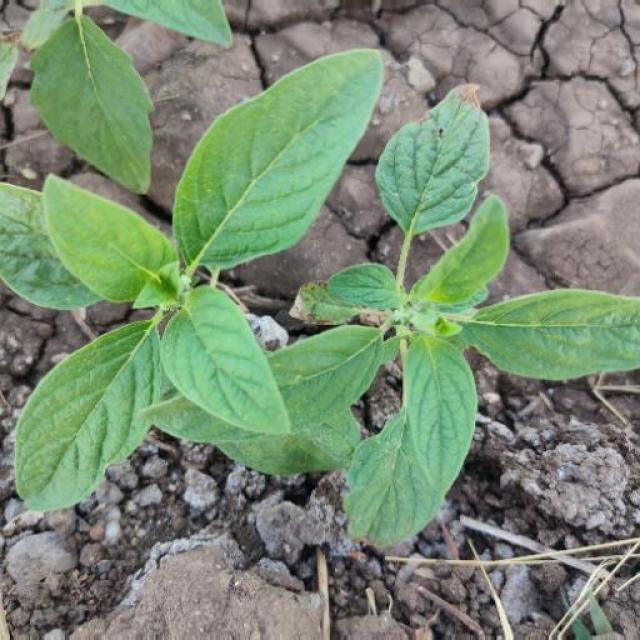crop: (251, 29, 640, 530), (1, 39, 352, 498)
